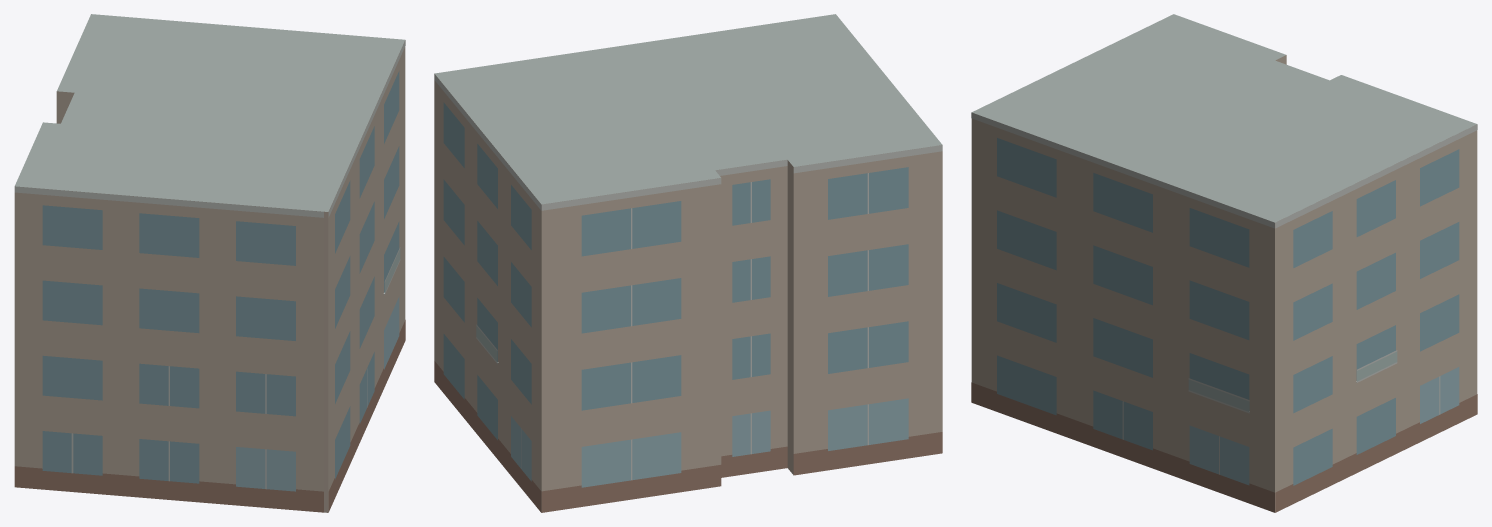
Rendered from survey-upis-32921711.glb.
The picture shows the model from 3 angles, left to right: view 1: azimuth 30°, elevation 25°; view 2: azimuth 150°, elevation 25°; view 3: azimuth 270°, elevation 25°; orthographic projection. The views are drawn at different scales.
Visible parts, largest first — view 1: survey-upis-32921711.tmp; view 2: survey-upis-32921711.tmp; view 3: survey-upis-32921711.tmp.
Boxes of the visible parts, x1,y1,x2,y2 form: survey-upis-32921711.tmp: (14, 14, 405, 512); survey-upis-32921711.tmp: (434, 14, 942, 512); survey-upis-32921711.tmp: (971, 14, 1477, 512).
Bounding box in the file's own units: 18.36 × 11.9 × 18.81.
